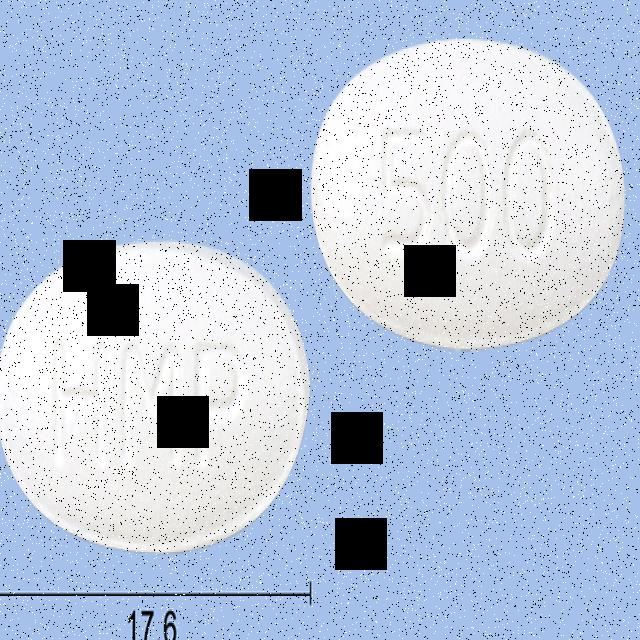Amoclan Duo Tab- Myungmoon: (0, 235, 314, 559), (310, 38, 625, 353)
